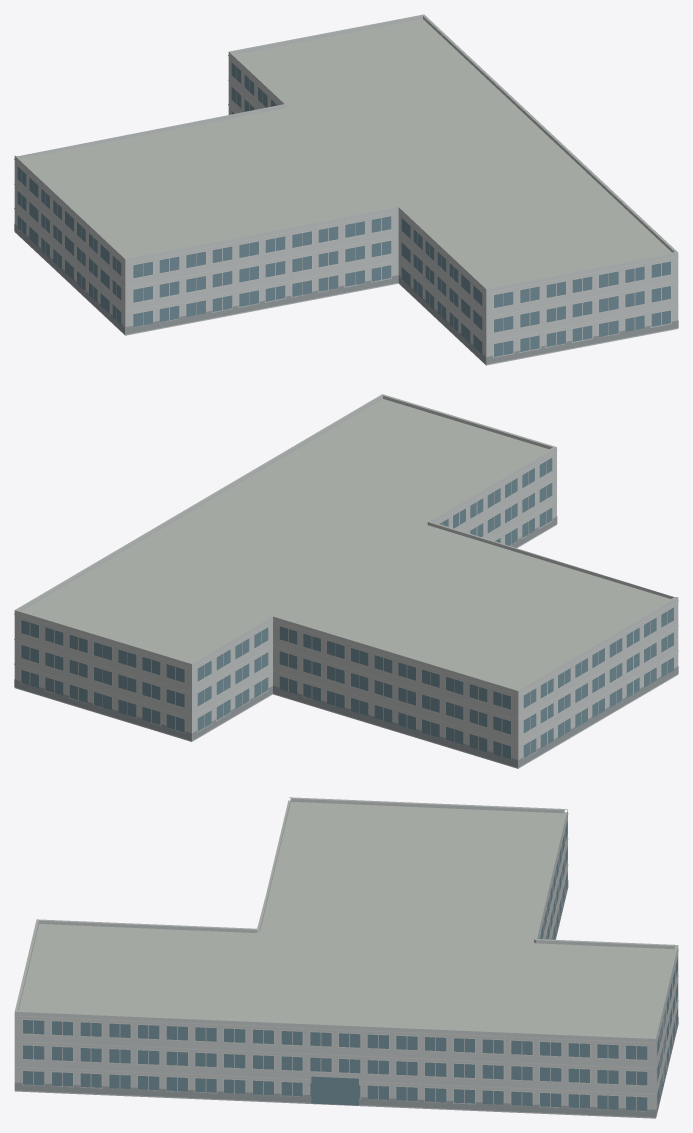
File: public-c866c53b-c2e5-4648-805a-c311d6101ff4.glb
The picture shows the model from 3 angles, top to bottom: view 1: azimuth 30°, elevation 25°; view 2: azimuth 150°, elevation 25°; view 3: azimuth 270°, elevation 25°; orthographic projection. The views are drawn at different scales.
Parts seen in each view (by area): view 1: public-c866c53b-c2e5-4648-805a-c311d6101ff4; view 2: public-c866c53b-c2e5-4648-805a-c311d6101ff4; view 3: public-c866c53b-c2e5-4648-805a-c311d6101ff4.
Boxes of the visible parts, box(x1,y1,x2,y2) form: public-c866c53b-c2e5-4648-805a-c311d6101ff4: box(14, 14, 678, 365); public-c866c53b-c2e5-4648-805a-c311d6101ff4: box(14, 394, 678, 768); public-c866c53b-c2e5-4648-805a-c311d6101ff4: box(14, 797, 678, 1118).
Bounding box in the file's own units: 59.68 × 9.15 × 69.21.
